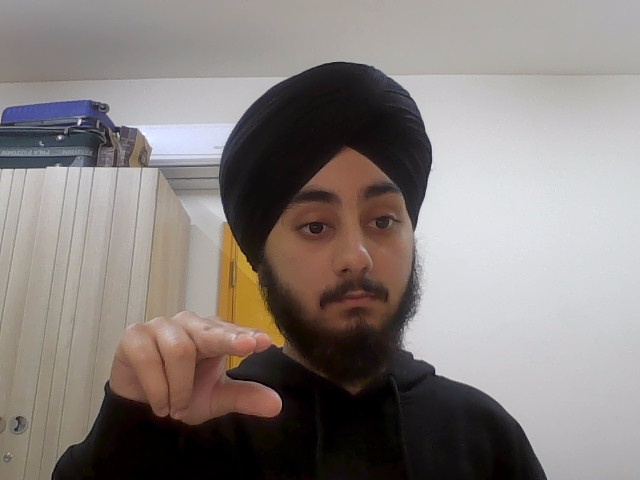No: (111, 307, 284, 435)
